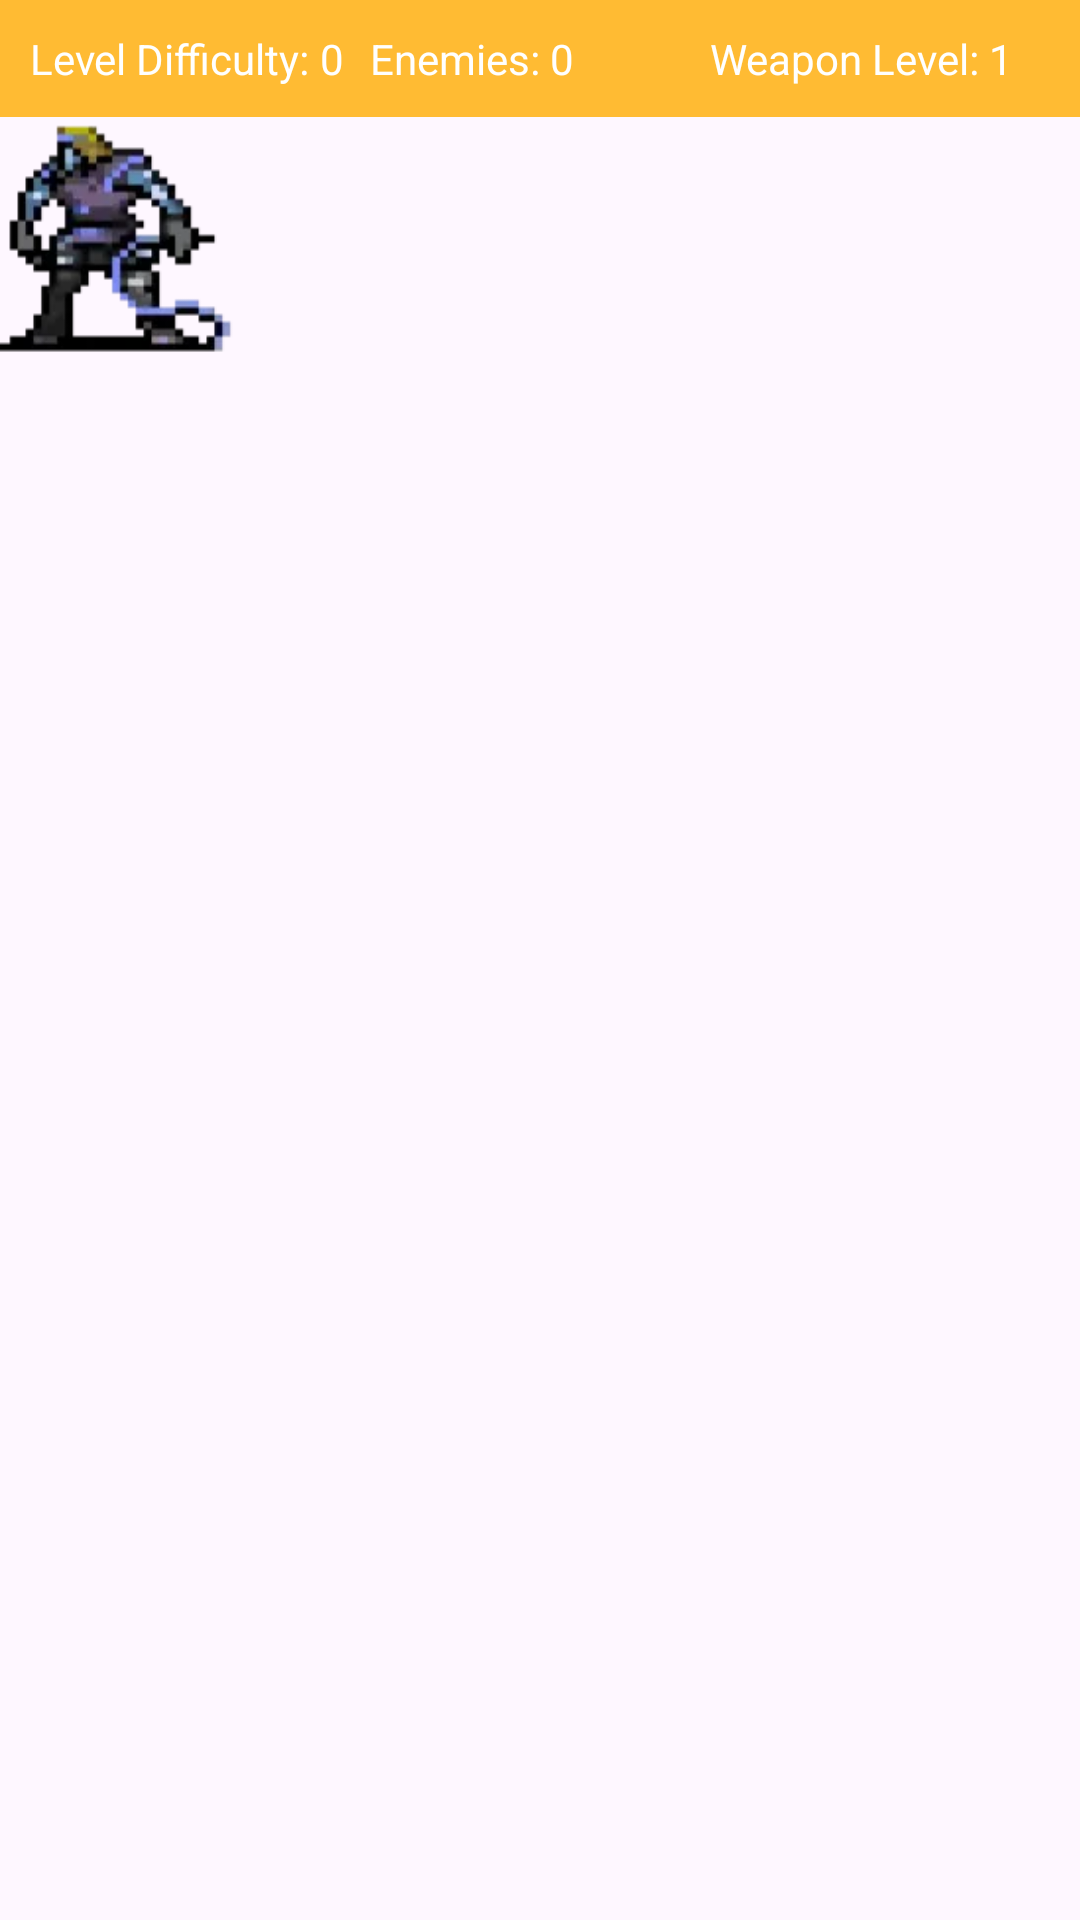

Where to tap for icons on this 1080px x 1920px app screen, as [x,y]:
character: [115,239]
